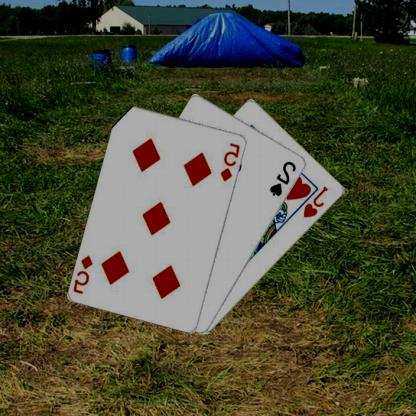2S: (269, 158, 299, 198)
5D: (72, 252, 96, 295), (220, 140, 243, 183)
JH: (302, 184, 332, 218)
